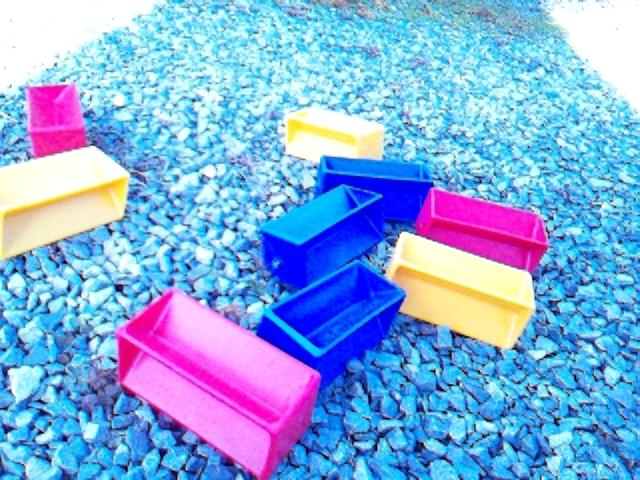blue: (256, 260, 407, 389), (259, 183, 386, 290), (314, 154, 435, 225)
red: (115, 287, 323, 480), (414, 186, 550, 274), (25, 82, 88, 159)
yellow: (385, 231, 537, 350), (1, 144, 131, 263), (285, 106, 385, 164)
